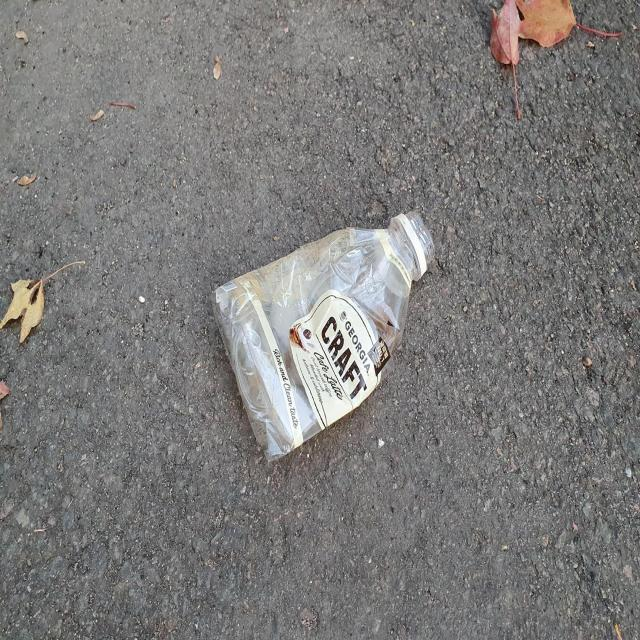plastic: (213, 211, 434, 460)
